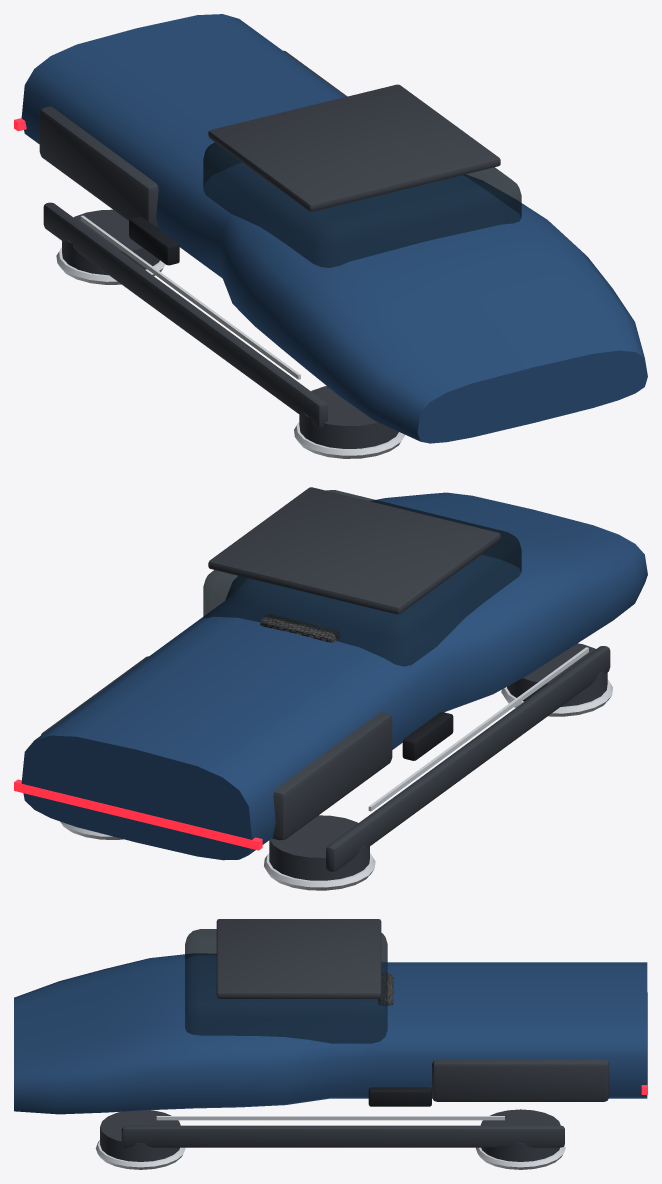
The model's file is car_utility.glb.
3 renders of one model, top to bottom at view 1: azimuth 30°, elevation 25°; view 2: azimuth 150°, elevation 25°; view 3: azimuth 270°, elevation 25°, orthographic. The views are drawn at different scales.
Parts seen in each view (by area): view 1: car_utility; view 2: car_utility; view 3: car_utility.
Part boxes in pixels (bbox=[...]): car_utility: bbox=[14, 14, 647, 458]; car_utility: bbox=[14, 487, 647, 890]; car_utility: bbox=[14, 919, 647, 1169].
Size of the model in its own units: 2.22 by 1.38 by 5.01.
10 materials, 1 textured.
